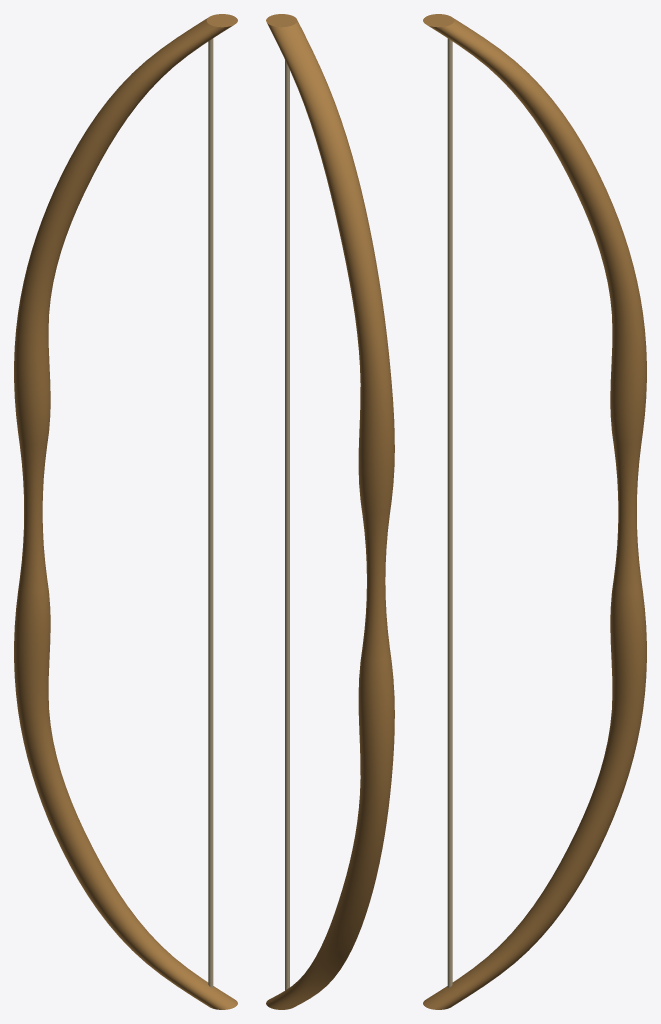
Rendered from recurve_honey.glb.
The picture shows the model from 3 angles, left to right: view 1: azimuth 90°, elevation 25°; view 2: azimuth 210°, elevation 25°; view 3: azimuth 270°, elevation 25°; orthographic projection.
Visible parts, largest first — view 1: angular_limbs.003, string.003; view 2: angular_limbs.003, string.003; view 3: angular_limbs.003, string.003.
Part boxes in pixels (left/top/right/bottom): angular_limbs.003: left=14, top=14, right=237, bottom=1009; string.003: left=208, top=38, right=213, bottom=987; angular_limbs.003: left=266, top=14, right=394, bottom=1009; string.003: left=285, top=60, right=289, bottom=990; angular_limbs.003: left=423, top=14, right=646, bottom=1009; string.003: left=447, top=38, right=452, bottom=987.
Size of the model in its own units: 0.0567 by 1.7 by 0.351.
